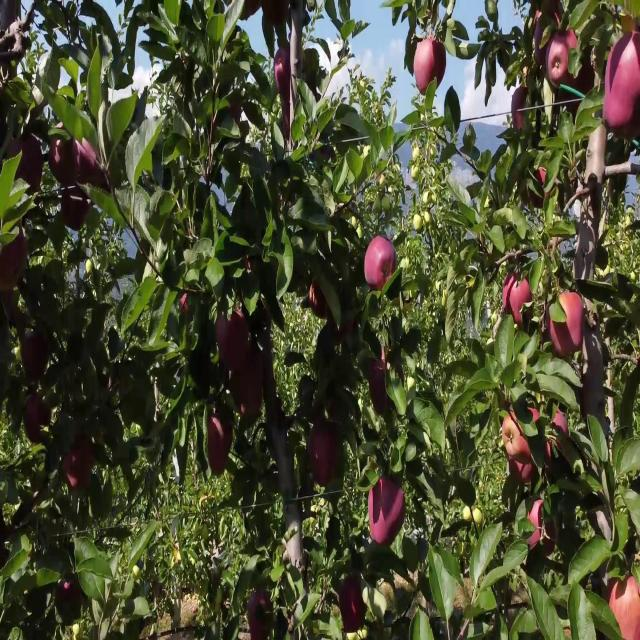apple: (604, 35, 640, 135), (368, 476, 406, 548), (548, 291, 586, 361), (308, 426, 343, 491), (8, 135, 45, 196), (608, 35, 640, 105), (232, 355, 265, 420), (364, 234, 397, 293), (532, 7, 565, 66), (528, 497, 558, 558), (612, 575, 640, 639), (0, 234, 29, 295), (564, 35, 592, 98), (504, 405, 540, 452), (224, 312, 252, 372), (64, 440, 96, 492), (340, 575, 367, 635), (24, 391, 53, 446), (505, 433, 536, 484), (604, 85, 635, 135), (532, 14, 560, 69), (420, 35, 448, 87), (48, 135, 75, 188), (208, 419, 233, 476), (532, 7, 565, 50), (20, 334, 49, 382), (544, 412, 569, 466), (416, 42, 444, 89), (60, 191, 91, 233), (368, 348, 391, 404), (248, 590, 274, 639), (548, 35, 569, 91), (528, 497, 548, 555), (512, 277, 534, 327), (528, 163, 551, 210), (508, 447, 535, 487), (276, 49, 298, 96), (576, 49, 597, 98), (308, 277, 329, 320), (76, 142, 98, 183), (500, 412, 523, 450), (564, 28, 582, 76), (432, 35, 448, 87), (56, 583, 83, 610), (264, 0, 289, 28), (300, 49, 320, 84), (560, 71, 579, 105), (624, 106, 640, 144), (544, 433, 561, 466), (228, 99, 246, 130), (216, 312, 229, 354), (620, 14, 640, 41), (504, 277, 517, 318), (372, 391, 391, 418), (336, 319, 356, 343), (512, 85, 530, 108), (544, 440, 559, 466), (180, 291, 193, 318), (512, 113, 527, 133), (528, 405, 540, 430), (416, 78, 430, 94), (244, 7, 259, 20)
